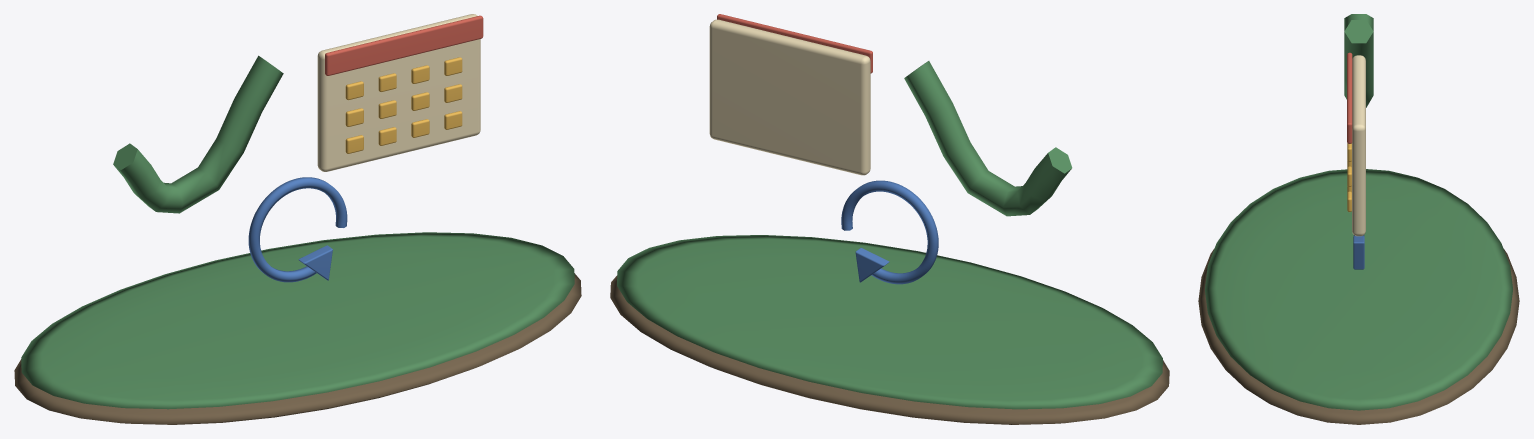
File: complete-second-correct-usual.glb
The picture shows the model from 3 angles, left to right: view 1: azimuth 30°, elevation 25°; view 2: azimuth 150°, elevation 25°; view 3: azimuth 270°, elevation 25°; orthographic projection. The views are drawn at different scales.
Parts seen in each view (by area): view 1: complete-second-correct-usual_surface_01, complete-second-correct-usual_surface_02, complete-second-correct-usual_surface_00, complete-second-correct-usual_surface_03, complete-second-correct-usual_surface_04, complete-second-correct-usual_surface_05; view 2: complete-second-correct-usual_surface_01, complete-second-correct-usual_surface_02, complete-second-correct-usual_surface_00, complete-second-correct-usual_surface_05, complete-second-correct-usual_surface_03; view 3: complete-second-correct-usual_surface_01, complete-second-correct-usual_surface_00, complete-second-correct-usual_surface_02, complete-second-correct-usual_surface_03, complete-second-correct-usual_surface_05, complete-second-correct-usual_surface_04.
Part boxes in pixels (x1=…): complete-second-correct-usual_surface_01: x1=21, y1=55, x2=574, y2=409; complete-second-correct-usual_surface_02: x1=317, y1=14, x2=480, y2=171; complete-second-correct-usual_surface_00: x1=14, y1=273, x2=581, y2=424; complete-second-correct-usual_surface_03: x1=325, y1=15, x2=483, y2=75; complete-second-correct-usual_surface_04: x1=345, y1=57, x2=462, y2=153; complete-second-correct-usual_surface_05: x1=248, y1=177, x2=347, y2=282; complete-second-correct-usual_surface_01: x1=617, y1=61, x2=1162, y2=409; complete-second-correct-usual_surface_02: x1=709, y1=19, x2=870, y2=175; complete-second-correct-usual_surface_00: x1=610, y1=275, x2=1169, y2=424; complete-second-correct-usual_surface_05: x1=841, y1=180, x2=938, y2=284; complete-second-correct-usual_surface_03: x1=717, y1=14, x2=872, y2=73; complete-second-correct-usual_surface_01: x1=1205, y1=14, x2=1512, y2=410; complete-second-correct-usual_surface_00: x1=1198, y1=249, x2=1519, y2=424; complete-second-correct-usual_surface_02: x1=1352, y1=55, x2=1365, y2=236; complete-second-correct-usual_surface_03: x1=1347, y1=52, x2=1352, y2=143; complete-second-correct-usual_surface_05: x1=1353, y1=235, x2=1364, y2=269; complete-second-correct-usual_surface_04: x1=1347, y1=143, x2=1351, y2=212.
Size of the model in its own units: 4.56 by 2.41 by 2.5.
